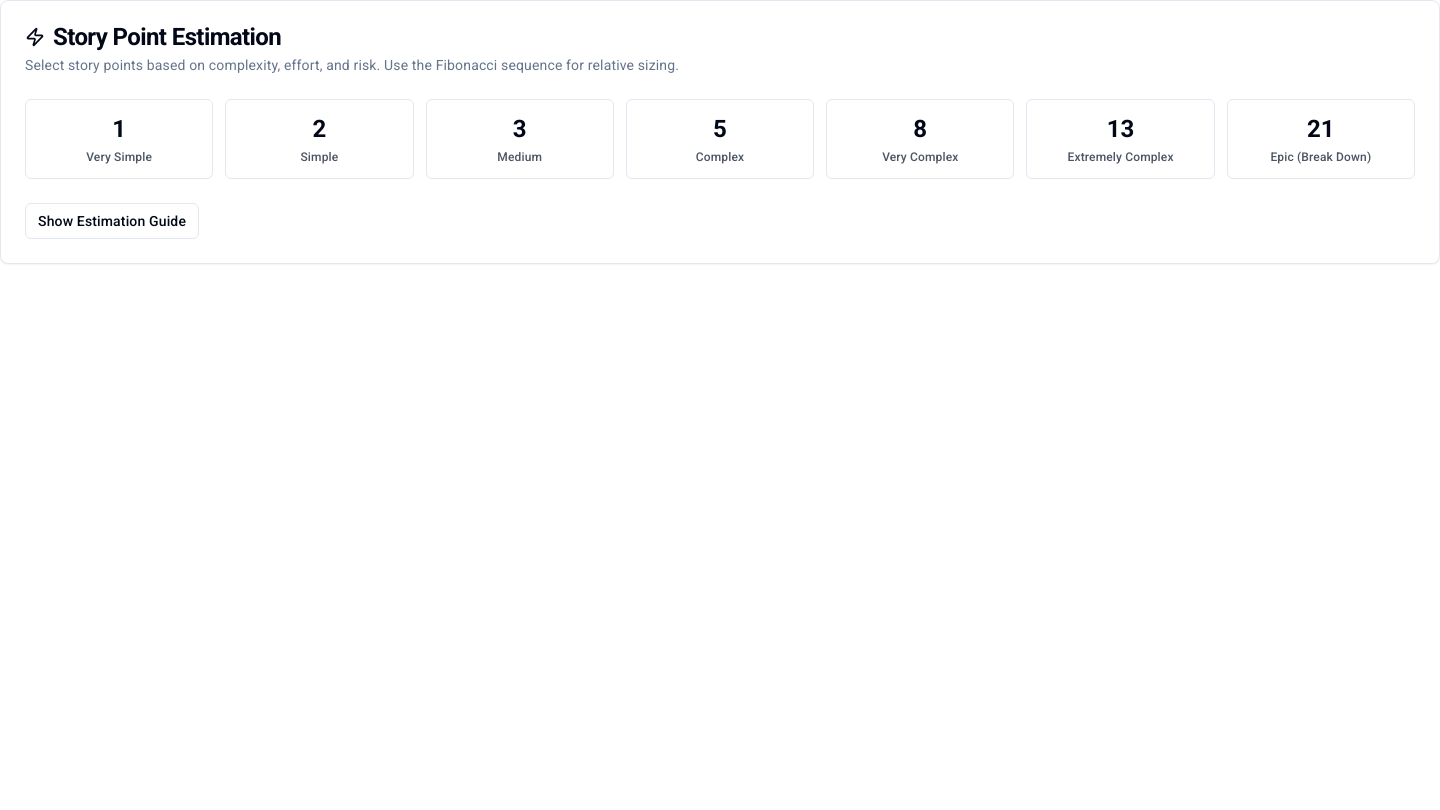
Test case: StoryPointEstimator › toggles estimation guide visibility
Expected: the text "Estimation Factors" is not shown
Click the button "Show Estimation Guide" at (112, 221), box [25, 203, 199, 239]
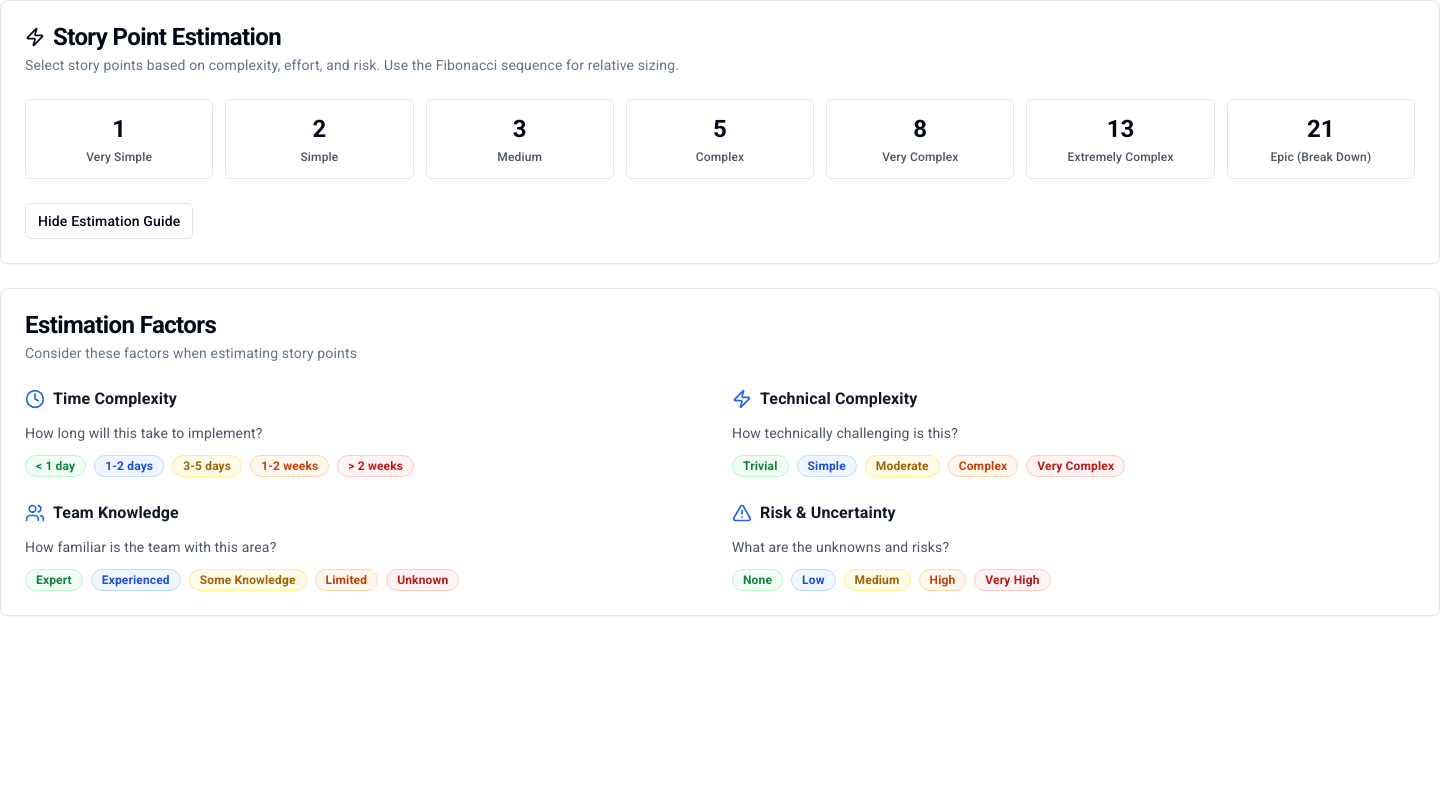
Expected: the heading "Estimation Factors" is shown, [25, 311, 216, 339]
Expected: the button "Hide Estimation Guide" is shown, [25, 203, 193, 239]
